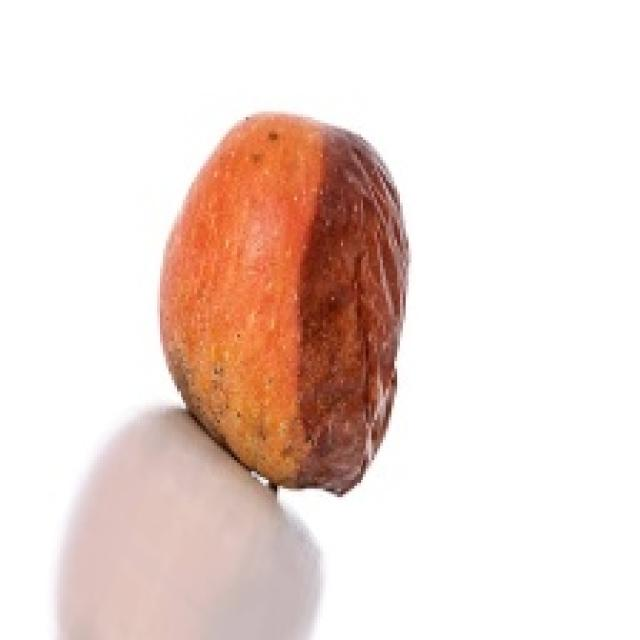rotten_apple: (167, 115, 404, 492)
